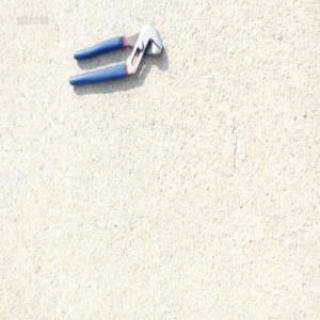Pliertrack_idkeyframe: (67, 22, 163, 87)
